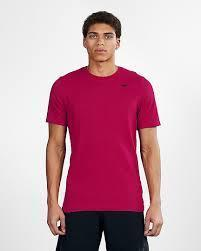Tshirt: (39, 66, 169, 214)
